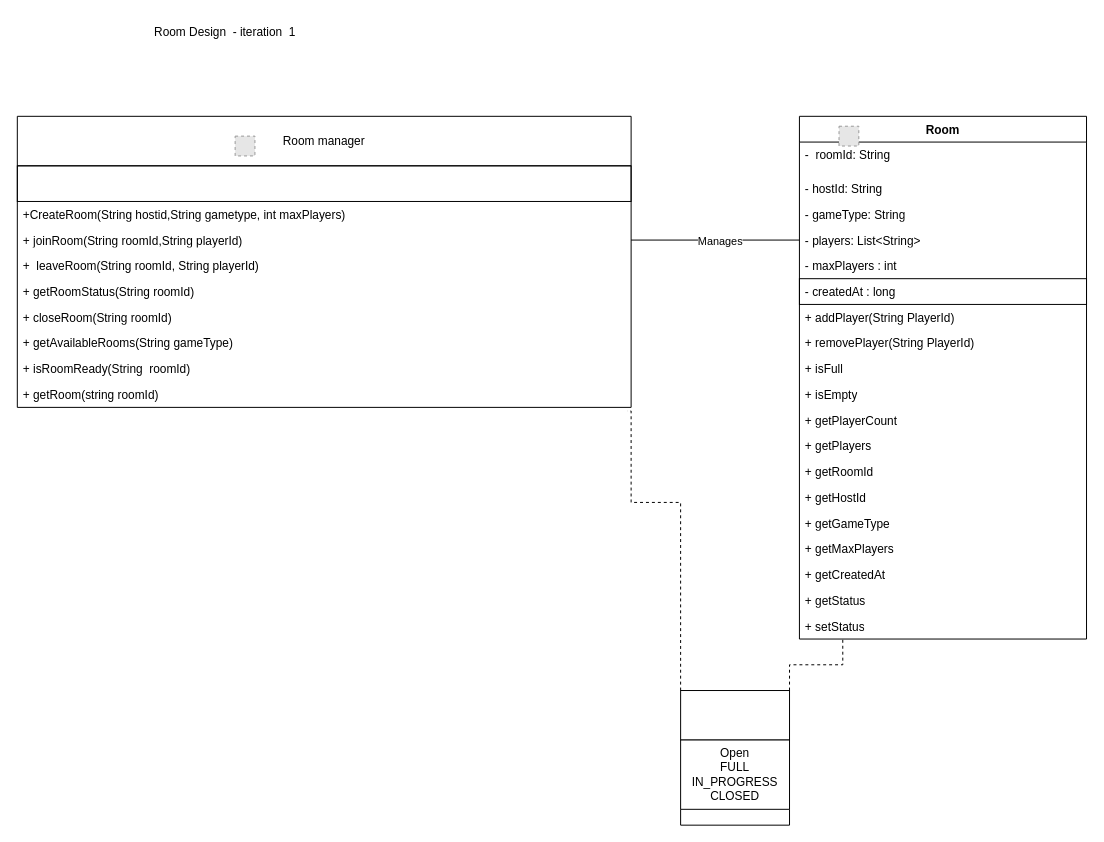
Image size: 1104x842. Some labels were removed from this diagram. Grey dashed boxes stand in for pictures. Here are the shapes that lost their labels. From the top down, the centre of each, then its label:
At (323,183): "- rooms: Map<String, Room>".
At (735,715): "«ENUM» RoomStatus".
